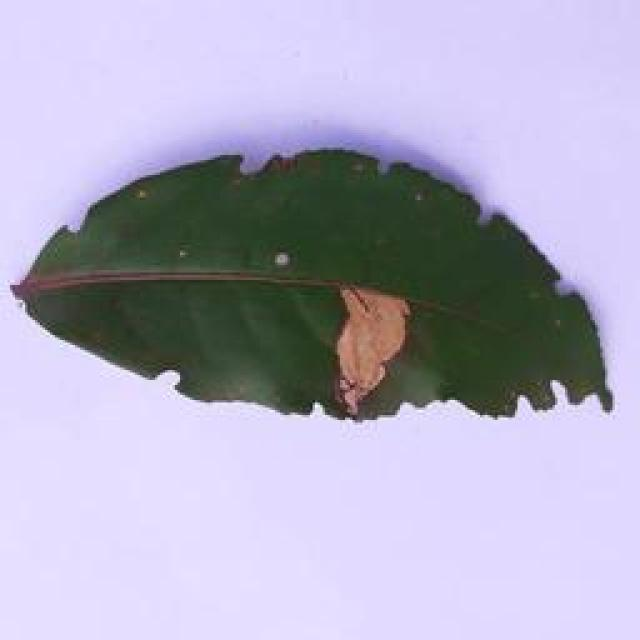Gray Blight: (11, 136, 616, 426)
